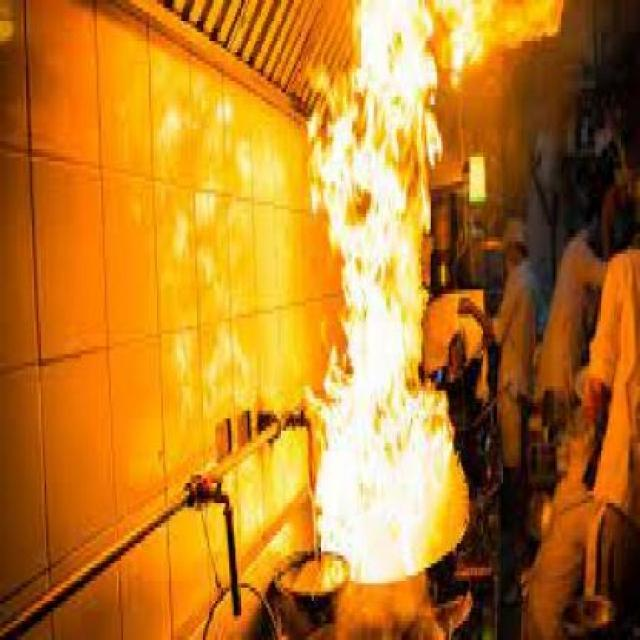fire: (301, 14, 464, 574)
